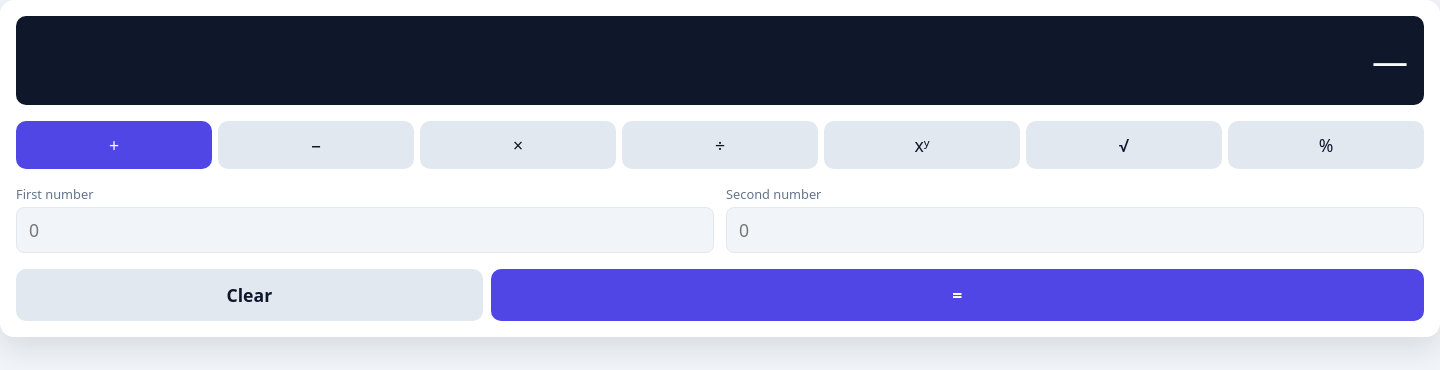
Test: Calculator › shows a generic message for unexpected errors
The width and height of the screenshot is (1440, 370).
Type "1" into the field labelled "First number" at (365, 230), box [16,207,714,253]
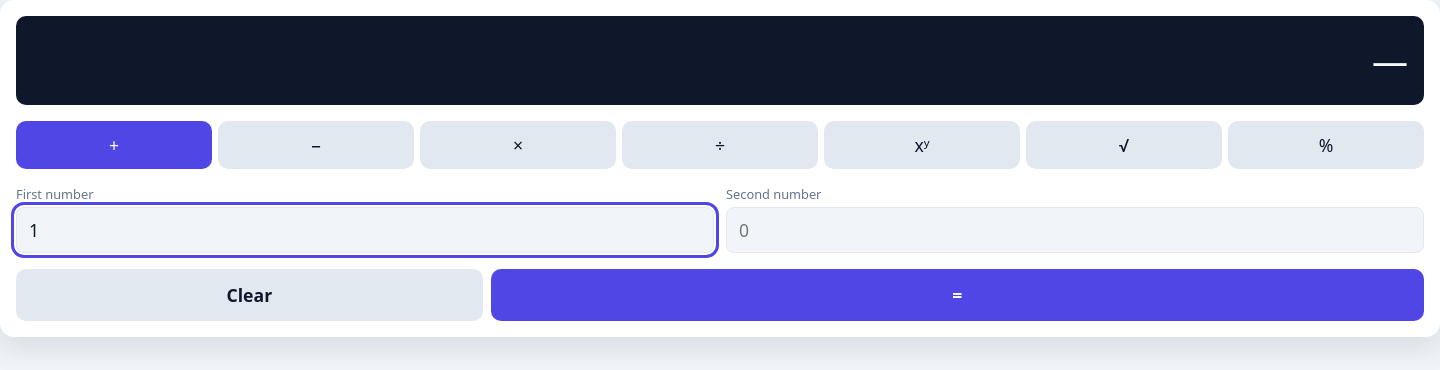
Type "1" into the field labelled "Second number" at (1075, 230), box [726,207,1424,253]
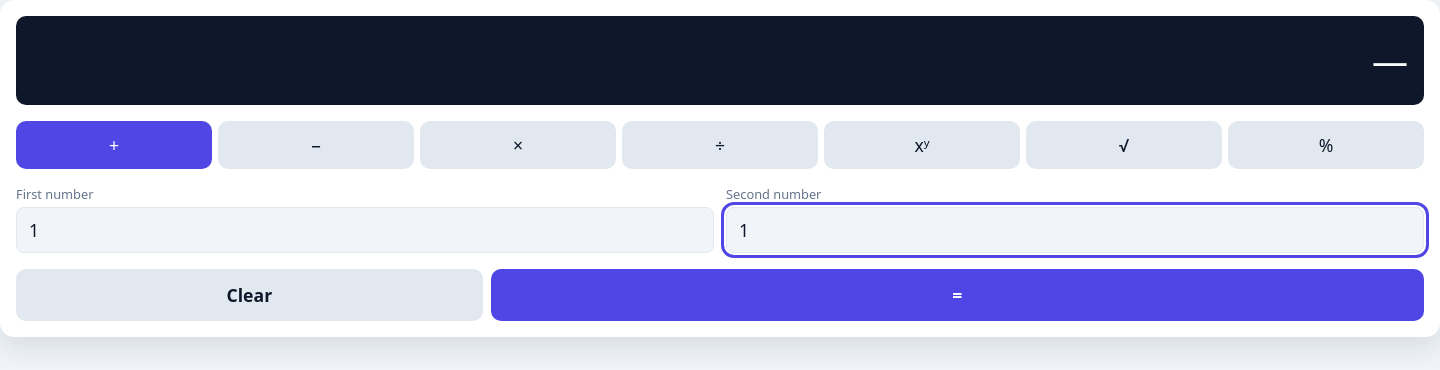
Click the button "=" at (957, 295), box [491,269,1424,321]
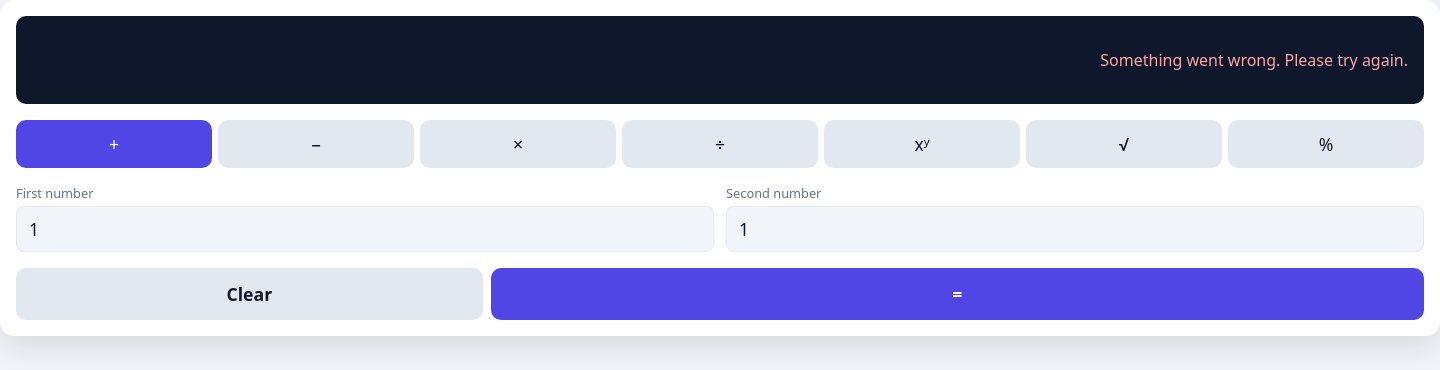
Now the message shows "Something went wrong", box [1100,49,1408,71]
